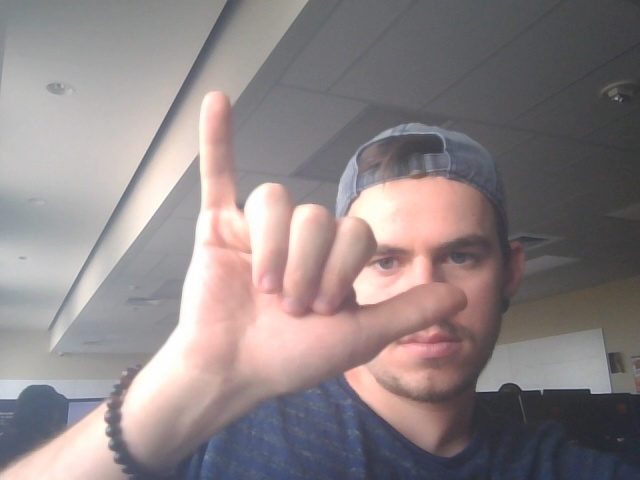birdsup: (184, 85, 478, 403)
